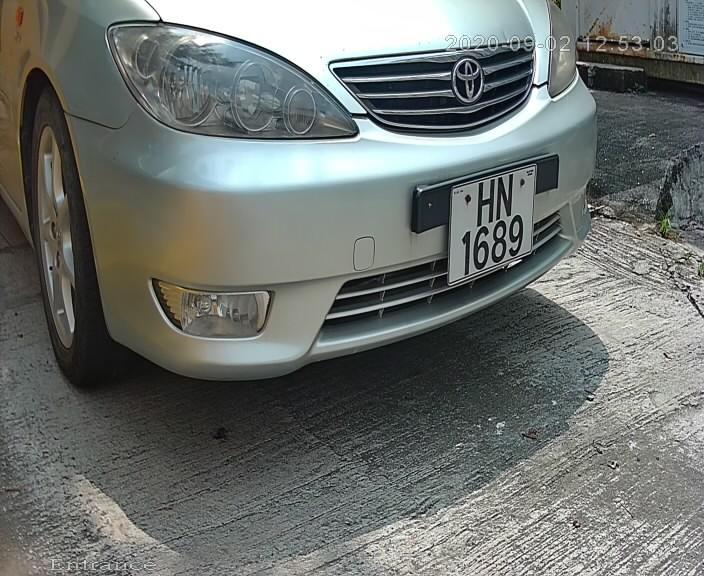License Plate: (437, 157, 541, 296)
